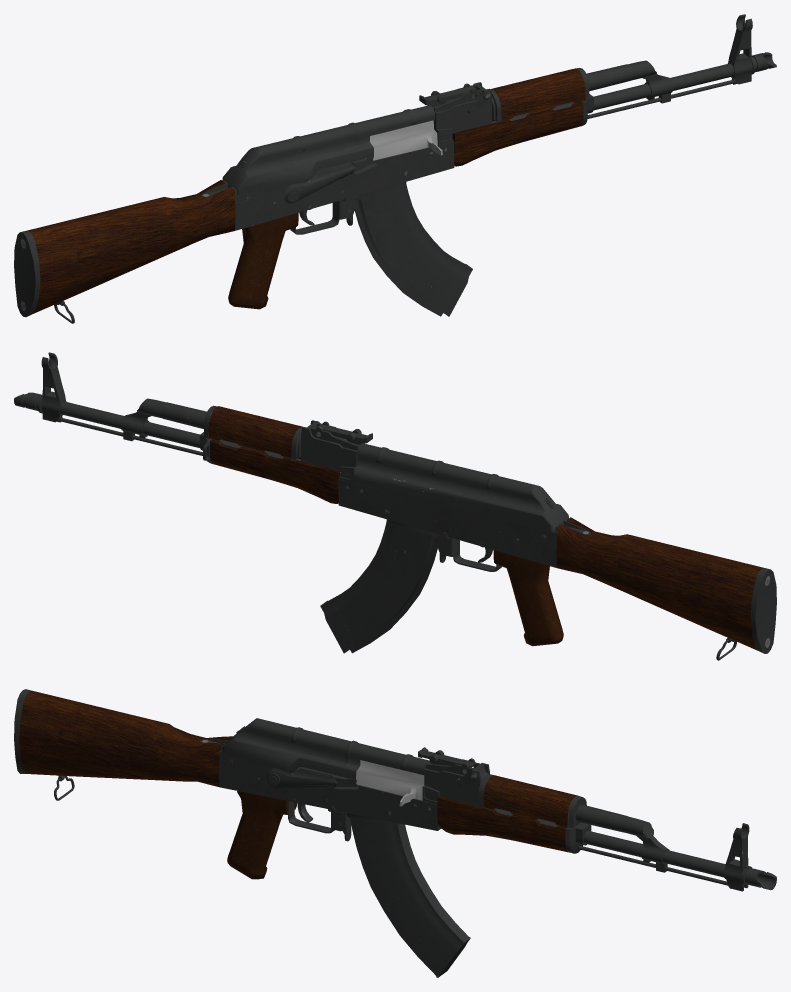
The picture shows the model from 3 angles, top to bottom: view 1: azimuth 30°, elevation 25°; view 2: azimuth 150°, elevation 25°; view 3: azimuth 330°, elevation 25°; orthographic projection.
Visible parts, largest first — view 1: Stock_low, Magazine_low, UpperReciver_low, HandGuard_low, Cev_low, Body_low, Grip_low, Aim_low, BackStock_low, BoltCarrier_low, SaeftyLock_low, TriggerFrame_low; view 2: Stock_low, UpperReciver_low, Magazine_low, Body_low, HandGuard_low, Cev_low, Grip_low, Aim_low, BackStock_low, TriggerFrame_low; view 3: Stock_low, Magazine_low, Cev_low, HandGuard_low, UpperReciver_low, Body_low, Grip_low, Aim_low, BoltCarrier_low, SaeftyLock_low, TriggerFrame_low, Muzzle_low (+1 smaller).
Part boxes in pixels (bbox=[...]): Stock_low: bbox=[27, 180, 235, 313]; Magazine_low: bbox=[354, 182, 472, 316]; UpperReciver_low: bbox=[222, 105, 435, 194]; HandGuard_low: bbox=[452, 68, 585, 166]; Cev_low: bbox=[490, 14, 752, 126]; Body_low: bbox=[234, 141, 454, 230]; Grip_low: bbox=[228, 212, 298, 309]; Aim_low: bbox=[419, 82, 491, 132]; BackStock_low: bbox=[14, 230, 40, 317]; BoltCarrier_low: bbox=[365, 120, 442, 160]; SaeftyLock_low: bbox=[282, 156, 377, 204]; TriggerFrame_low: bbox=[290, 194, 357, 234]; Stock_low: bbox=[556, 517, 763, 650]; UpperReciver_low: bbox=[354, 443, 568, 532]; Magazine_low: bbox=[320, 519, 437, 653]; Body_low: bbox=[338, 479, 557, 567]; HandGuard_low: bbox=[208, 406, 339, 503]; Cev_low: bbox=[41, 352, 302, 464]; Grip_low: bbox=[493, 550, 563, 646]; Aim_low: bbox=[301, 420, 372, 470]; BackStock_low: bbox=[750, 568, 776, 653]; TriggerFrame_low: bbox=[434, 532, 501, 571]; Stock_low: bbox=[19, 690, 232, 787]; Magazine_low: bbox=[346, 813, 470, 977]; Cev_low: bbox=[478, 774, 749, 891]; HandGuard_low: bbox=[437, 775, 578, 852]; UpperReciver_low: bbox=[221, 718, 432, 779]; Body_low: bbox=[219, 751, 440, 830]; Grip_low: bbox=[227, 791, 296, 879]; Aim_low: bbox=[418, 747, 489, 805]; BoltCarrier_low: bbox=[348, 760, 424, 806]; SaeftyLock_low: bbox=[266, 768, 358, 790]; TriggerFrame_low: bbox=[288, 801, 346, 833]; Muzzle_low: bbox=[741, 866, 776, 890].
Bounding box in the file's own units: 2 × 0.5705 × 0.1462.
Materials: 1 (1 with a texture image).
